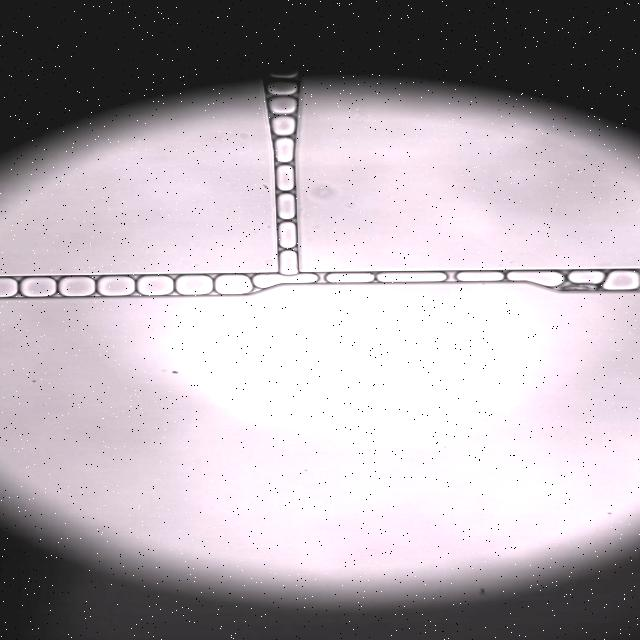L: (268, 97, 297, 115), (567, 271, 604, 285), (271, 116, 296, 136), (267, 80, 298, 96), (274, 138, 294, 162), (326, 273, 373, 283), (276, 165, 294, 191), (278, 222, 296, 248), (457, 271, 503, 281), (279, 251, 298, 275), (278, 194, 295, 220)
S: (508, 271, 564, 287), (253, 275, 316, 288), (19, 277, 56, 297), (58, 276, 95, 296), (98, 276, 135, 296), (602, 271, 640, 290), (377, 272, 446, 282), (216, 275, 252, 294), (177, 275, 212, 294), (139, 276, 172, 295), (0, 278, 16, 297)
